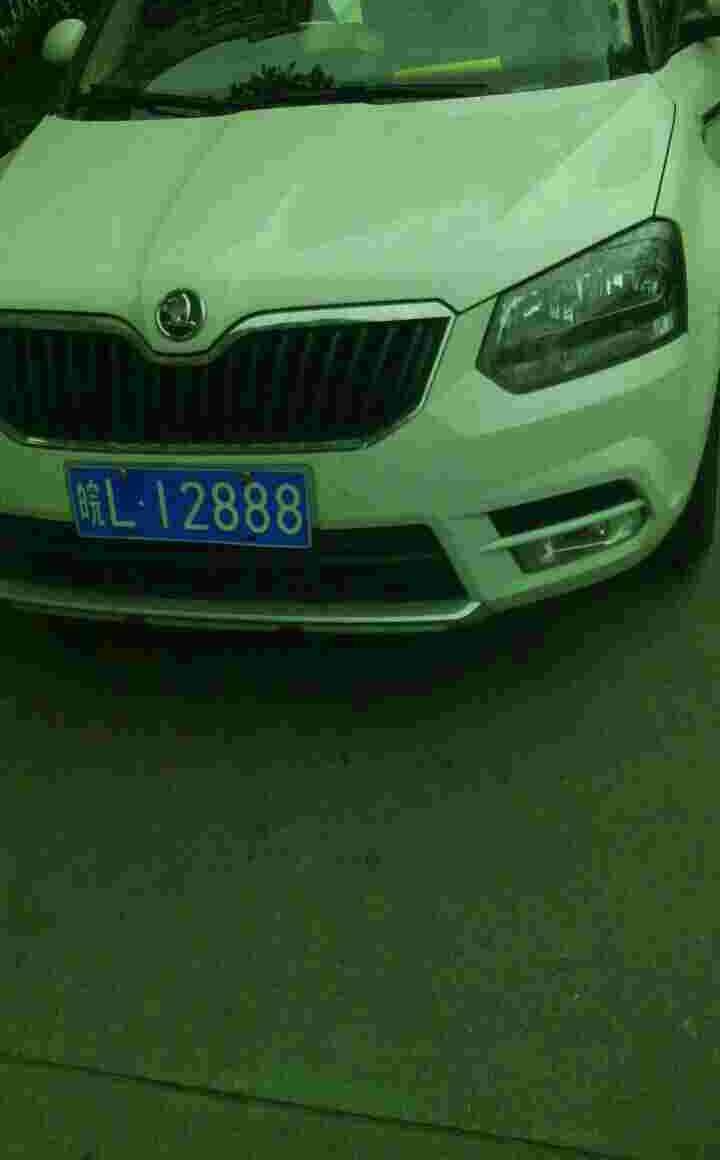license_plate: (69, 462, 310, 547)
